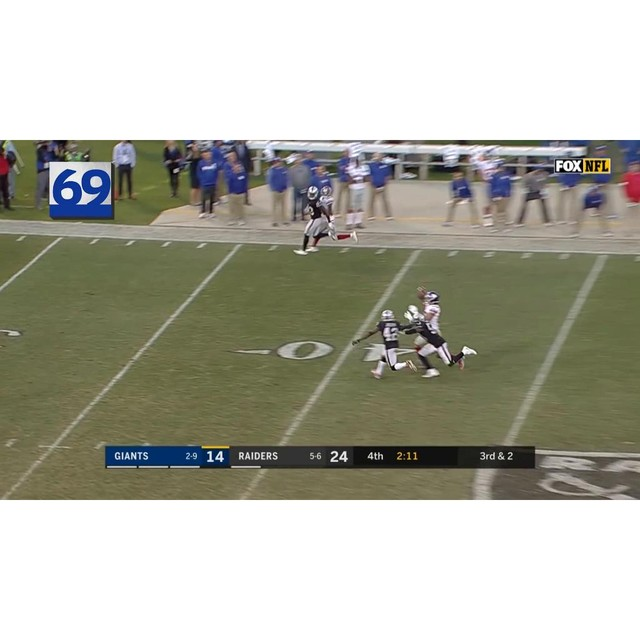american-football-player: (403, 308, 464, 378), (358, 310, 416, 379), (295, 186, 333, 256)
